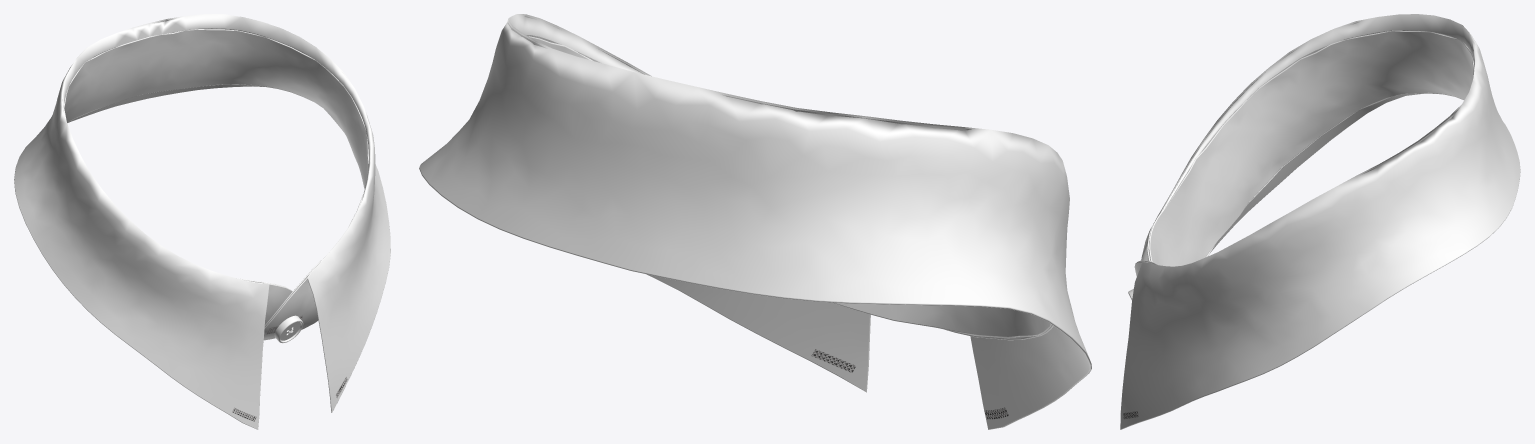
The model's file is Pinned_Collar.glb.
The picture shows the model from 3 angles, left to right: view 1: azimuth 30°, elevation 25°; view 2: azimuth 150°, elevation 25°; view 3: azimuth 270°, elevation 25°; orthographic projection. The views are drawn at different scales.
Visible parts, largest first — view 1: Pattern_4935173_Node, inner_Node, Pattern_4935171_Node, button; view 2: Pattern_4935173_Node, inner_Node; view 3: Pattern_4935173_Node, inner_Node, Pattern_4935171_Node.
Boxes of the visible parts, <box> form: Pattern_4935173_Node: <box>14,14,390,429</box>; inner_Node: <box>64,29,368,326</box>; Pattern_4935171_Node: <box>67,28,368,340</box>; button: <box>274,315,303,343</box>; Pattern_4935173_Node: <box>419,14,1091,429</box>; inner_Node: <box>528,36,1051,337</box>; Pattern_4935173_Node: <box>1120,14,1520,429</box>; inner_Node: <box>1137,30,1474,266</box>; Pattern_4935171_Node: <box>1134,30,1466,276</box>.
Bounding box in the file's own units: 15.92 × 13.1 × 13.52.
8 materials, 3 textured.
